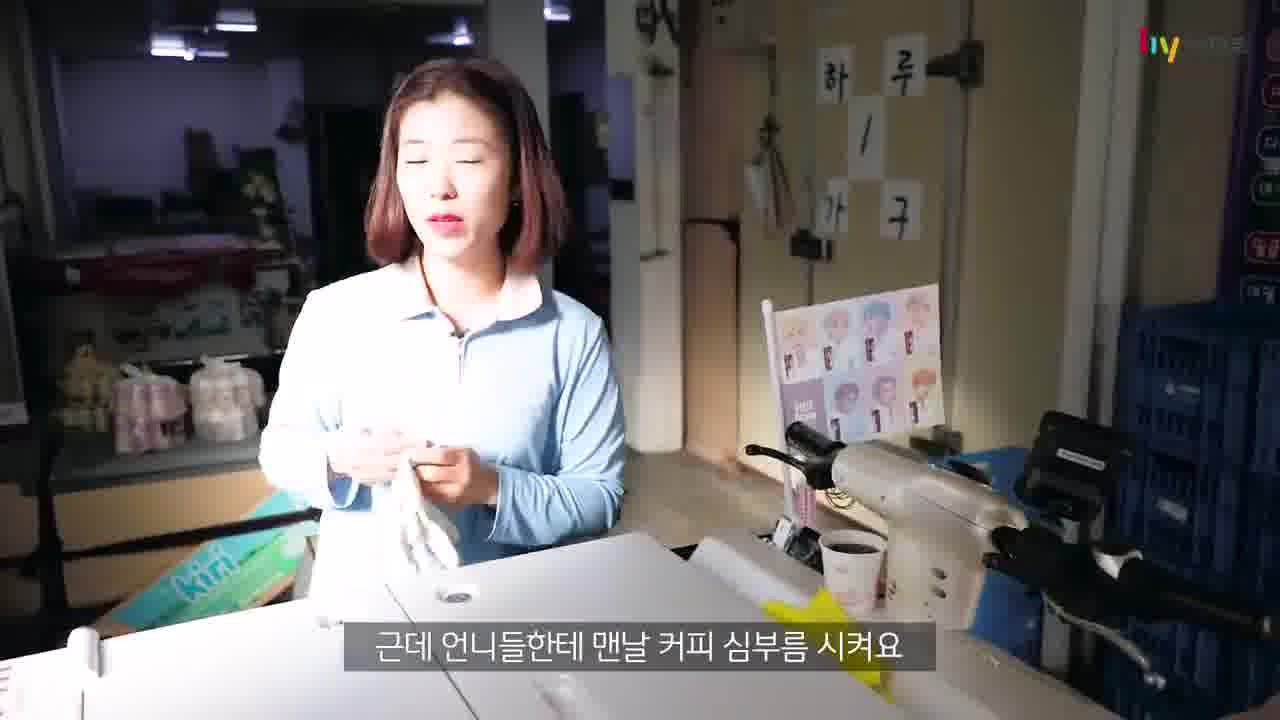Yakurut: (228, 52, 677, 562)
